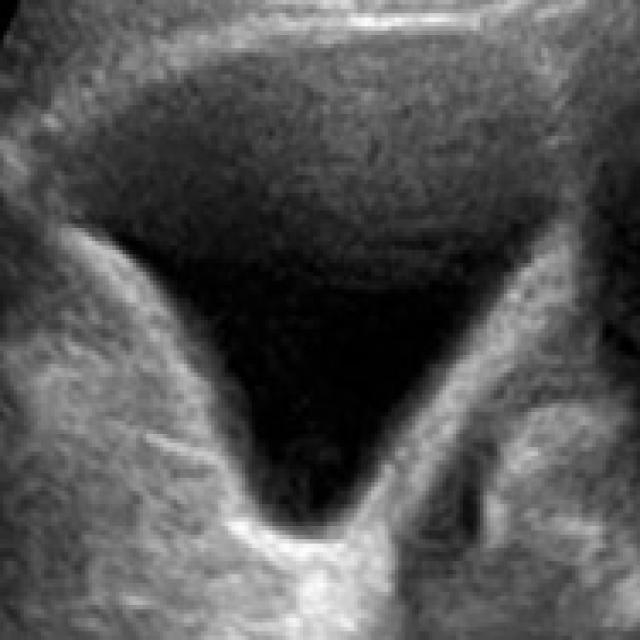bladder: (14, 9, 579, 593)
